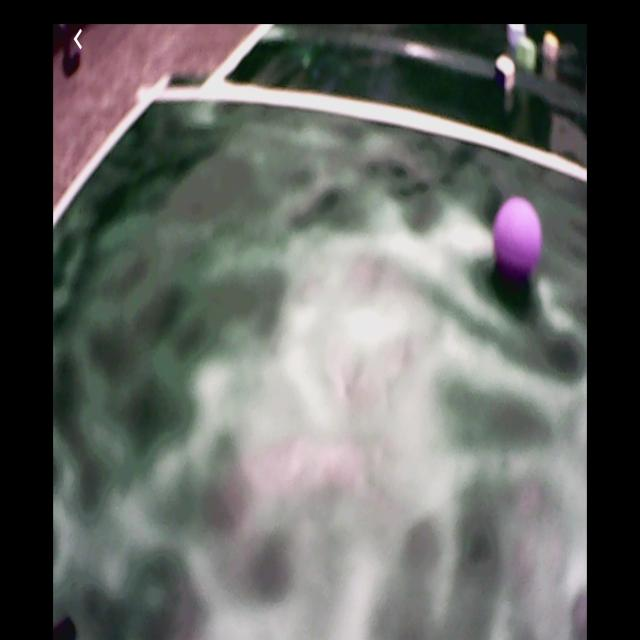ball: (493, 198, 543, 277)
